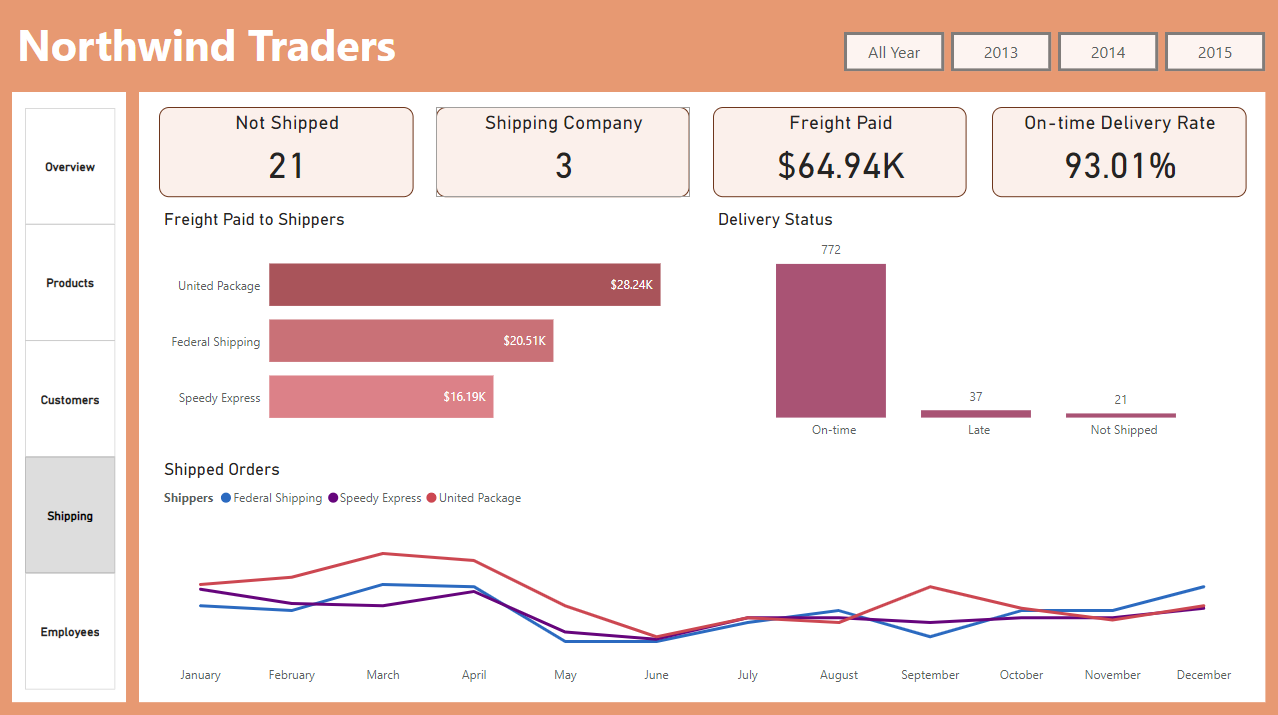

The dashboard page shown, as its layout file describes it:
{"tool":"powerbi","page":{"name":"Shipping","canvas":[1280,720],"ordinal":3},"visuals":[{"type":"textbox","box":[15.1,12.8,676,82.5],"z":0},{"type":"shape","box":[141.2,95,1123.8,608.8],"z":1000},{"type":"shape","box":[15,95,113.8,608.8],"z":2000},{"type":"card","title":"Not Shipped","fields":{"Values":["_measures.Not Shipped"]},"box":[161.2,110,253.8,90],"z":3000},{"type":"card","title":"Shipping Company","fields":{"Values":["Count(shippers.companyName)"]},"box":[438.3,110,253.3,90],"z":4000},{"type":"card","title":"Freight Paid","fields":{"Values":["_measures.Freight Paid"]},"box":[714.2,110,253.3,90],"z":5000},{"type":"card","title":"On-time Delivery Rate","fields":{"Values":["_measures.On-time Delivery Rate"]},"box":[992.5,110,253.8,90],"z":6000},{"type":"barChart","title":"Freight Paid to Shippers","fields":{"Category":["shippers.companyName"],"Y":["_measures.Freight Paid"]},"box":[161.5,211.4,529.7,238.1],"z":7000},{"type":"clusteredColumnChart","title":"Delivery Status","fields":{"Category":["orders.deliveryStatus"],"Y":["_measures.Total Orders"]},"box":[714.3,211.4,530.8,238.1],"z":8000},{"type":"lineChart","title":"Shipped Orders","fields":{"Category":["date_table.Date.Variation.Date Hierarchy.Month"],"Y":["_measures.Total Orders"],"Series":["shippers.companyName"]},"box":[161.5,461.1,1083.7,233.5],"z":9000},{"type":"actionButton","box":[845,35,100,39.4],"z":10000},{"type":"actionButton","box":[951.4,35,100,39.3],"z":11000},{"type":"actionButton","box":[1058.6,35,100,39.3],"z":12000},{"type":"actionButton","box":[1165,34.8,99.9,39.5],"z":13000},{"type":"pageNavigator","box":[27.9,110.3,90.6,584.2],"z":14000}]}

Visuals, with their boxes in screenshot pixels (x1, y1, x2, y2), scaled from the page's 1280x720 canvas onto the 1278x715 screenshot:
textbox: <region>15, 13, 690, 95</region>
shape: <region>141, 94, 1263, 699</region>
shape: <region>15, 94, 129, 699</region>
"Not Shipped" card: <region>161, 109, 414, 199</region>
"Shipping Company" card: <region>438, 109, 691, 199</region>
"Freight Paid" card: <region>713, 109, 966, 199</region>
"On-time Delivery Rate" card: <region>991, 109, 1244, 199</region>
"Freight Paid to Shippers" barChart: <region>161, 210, 690, 446</region>
"Delivery Status" clusteredColumnChart: <region>713, 210, 1243, 446</region>
"Shipped Orders" lineChart: <region>161, 458, 1243, 690</region>
actionButton: <region>844, 35, 944, 74</region>
actionButton: <region>950, 35, 1050, 74</region>
actionButton: <region>1057, 35, 1157, 74</region>
actionButton: <region>1163, 35, 1263, 74</region>
pageNavigator: <region>28, 110, 118, 690</region>
